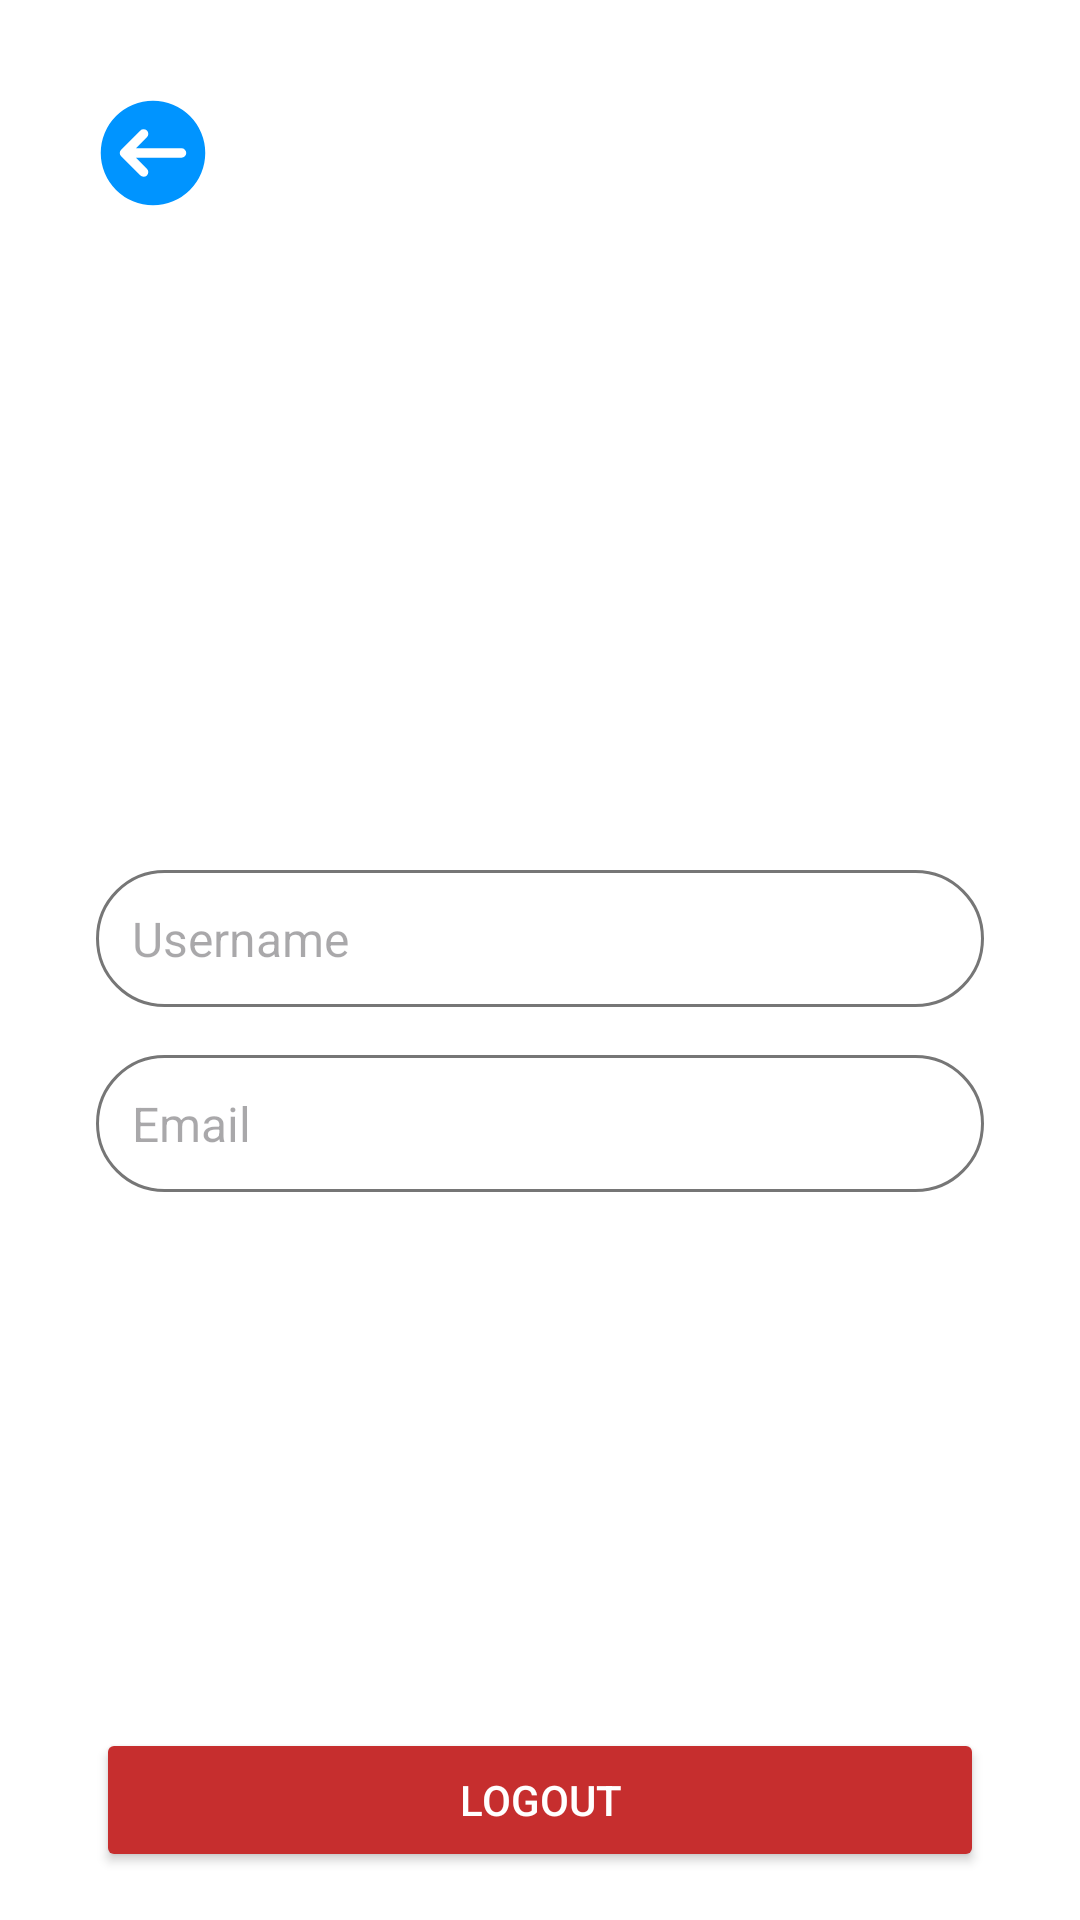

Icons on this 1080px×1920px Android screen, each with the point to tap as (x,y):
vektor back: (153,153)
